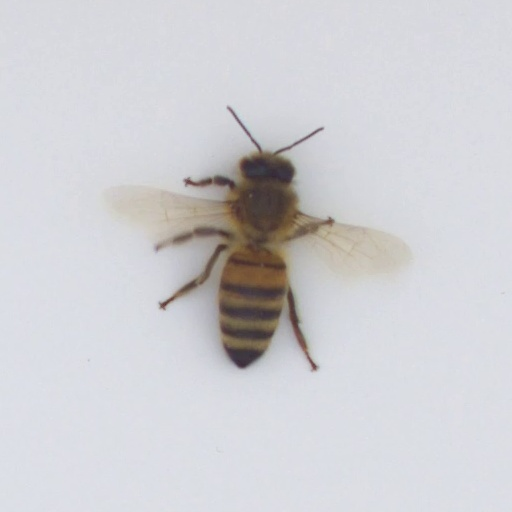Bee: (218, 158, 297, 366)
Thorax: (234, 184, 294, 231)
